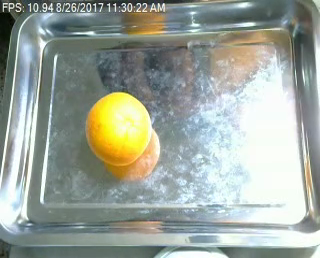Orange: (84, 91, 151, 166)
